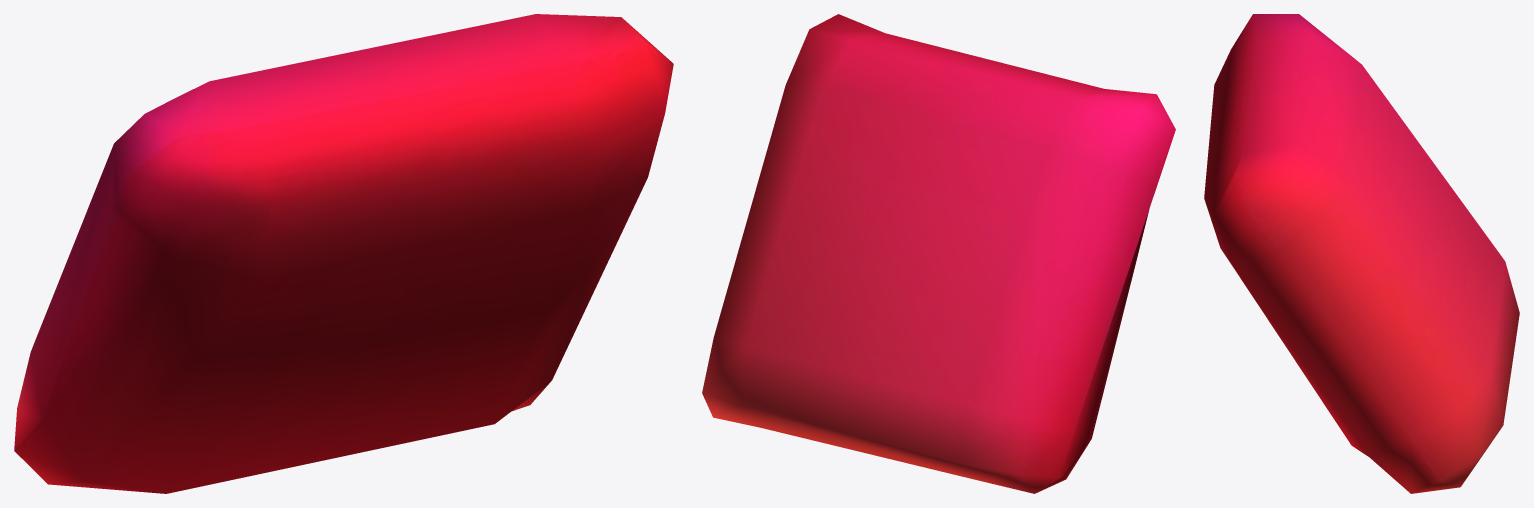
Rendered from cleanSofaCushion3.glb.
3 views of the same model, side by side, from view 1: azimuth 30°, elevation 25°; view 2: azimuth 150°, elevation 25°; view 3: azimuth 270°, elevation 25° (orthographic). The views are drawn at different scales.
Parts seen in each view (by area): view 1: cleanCushion3; view 2: cleanCushion3; view 3: cleanCushion3.
Part boxes in pixels (bbox=[...]): cleanCushion3: bbox=[14, 14, 673, 493]; cleanCushion3: bbox=[702, 14, 1175, 493]; cleanCushion3: bbox=[1204, 14, 1519, 493].
Bounding box in the file's own units: 0.6647 × 0.568 × 0.4946.
Materials: 1 (1 with a texture image).
